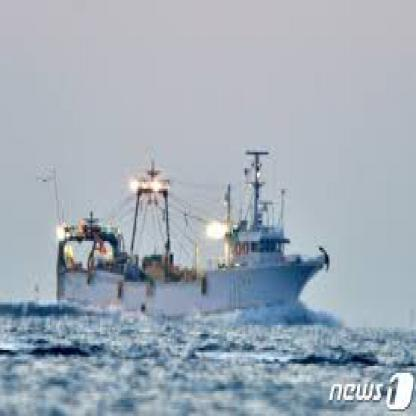fish-b: (40, 136, 343, 330)
